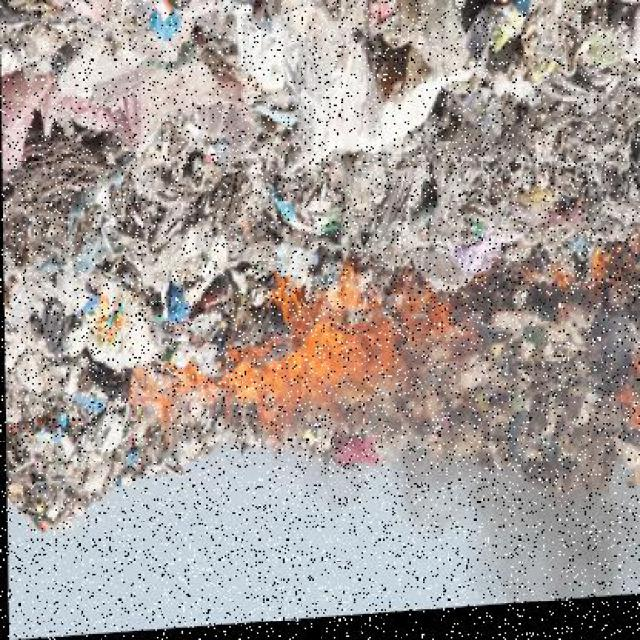fire: (209, 267, 505, 484)
